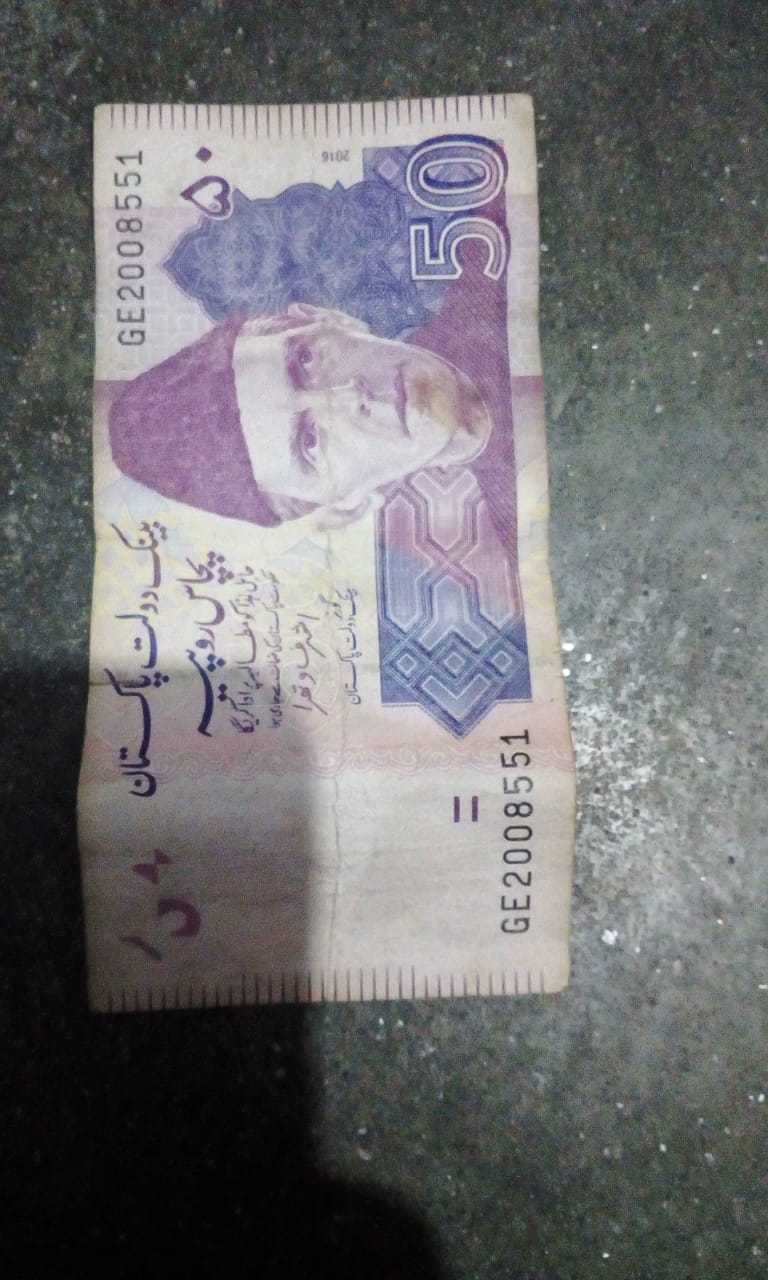50 rupee: (60, 76, 596, 1046)
